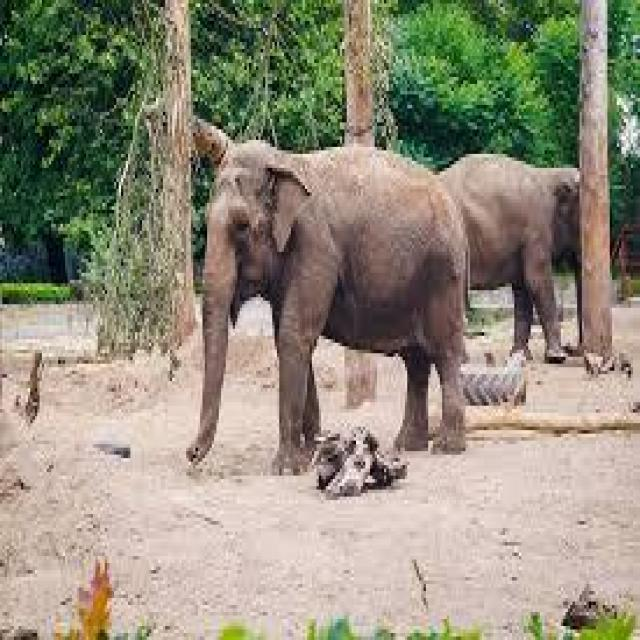Elephant: (184, 133, 465, 451)
